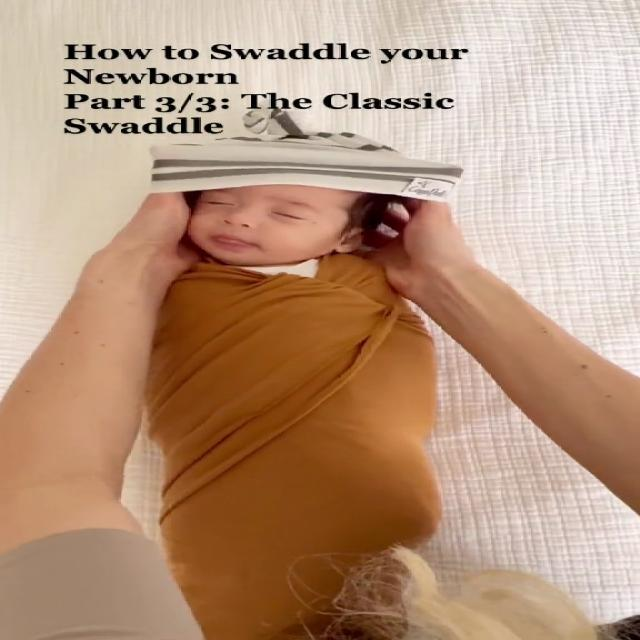baby: (146, 135, 443, 640)
